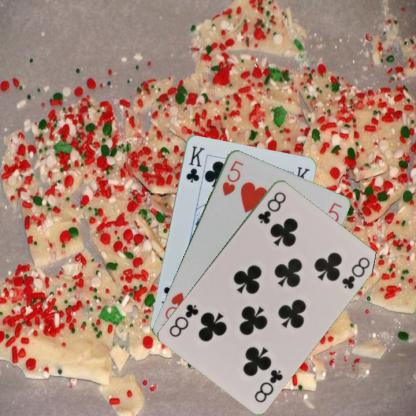5h: (219, 157, 245, 197)
8c: (255, 188, 288, 226), (252, 366, 284, 404)
Kc: (183, 142, 206, 184)
